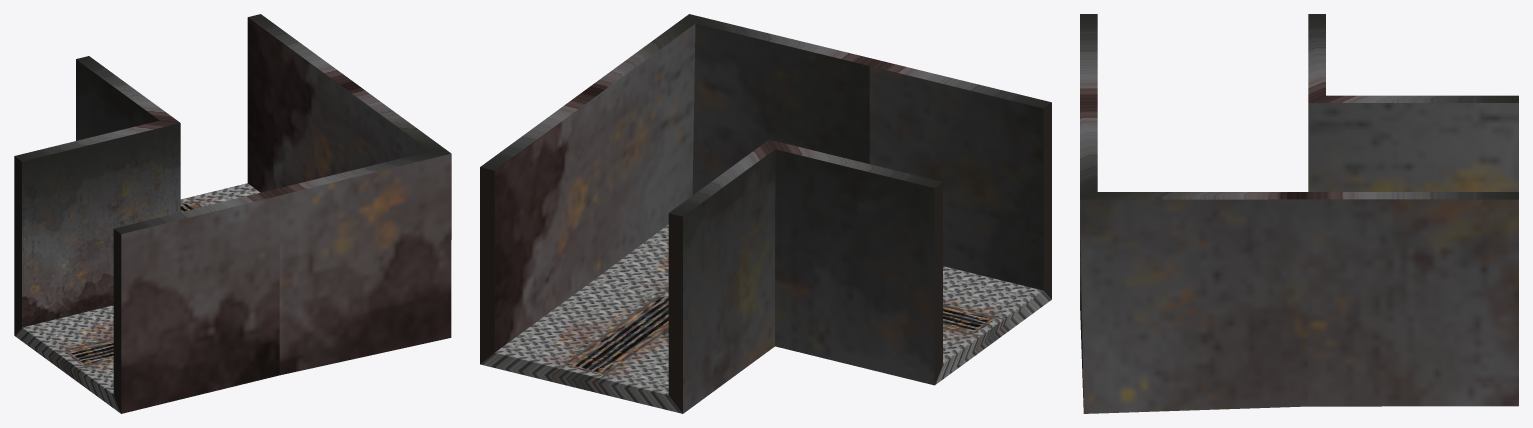
File: Corridor.004.fbx
3 views of the same model, side by side, from view 1: azimuth 30°, elevation 25°; view 2: azimuth 150°, elevation 25°; view 3: azimuth 270°, elevation 25° (orthographic). The views are drawn at different scales.
Parts seen in each view (by area): view 1: Corridor.004; view 2: Corridor.004; view 3: Corridor.004.
Boxes of the visible parts, x1,y1,x2,y2 form: Corridor.004: [14, 14, 451, 413]; Corridor.004: [480, 14, 1051, 413]; Corridor.004: [1080, 14, 1518, 413].
Size of the model in its own units: 1255 by 672 by 1250.
